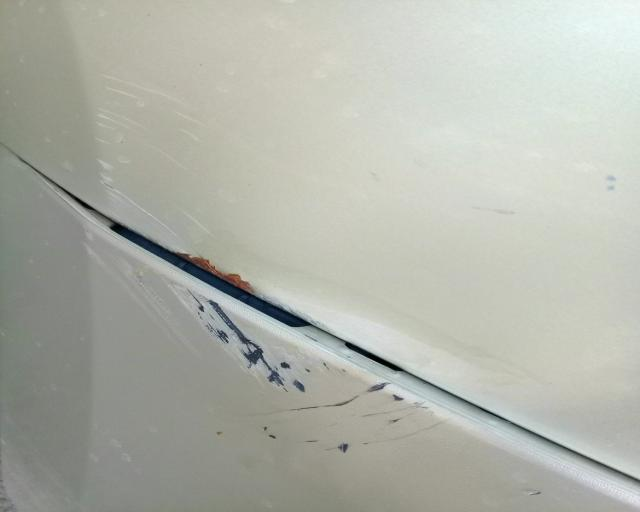scratch: (80, 234, 474, 461), (97, 75, 208, 260)
